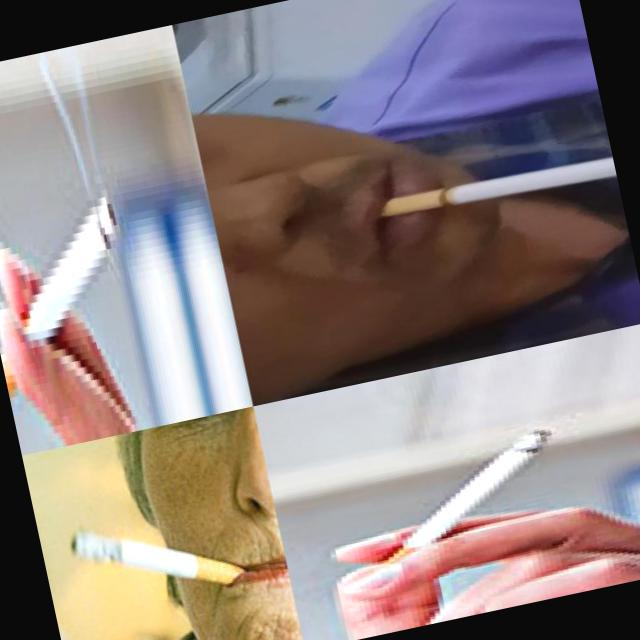smoke: (342, 424, 576, 582), (0, 191, 147, 399), (64, 495, 251, 617), (374, 152, 616, 229)
